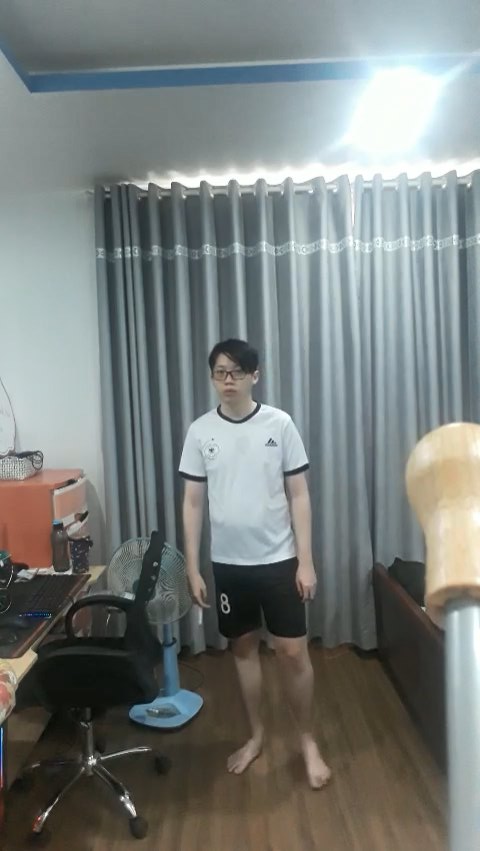cigarette: (198, 604, 204, 624)
person: (170, 336, 342, 793)
